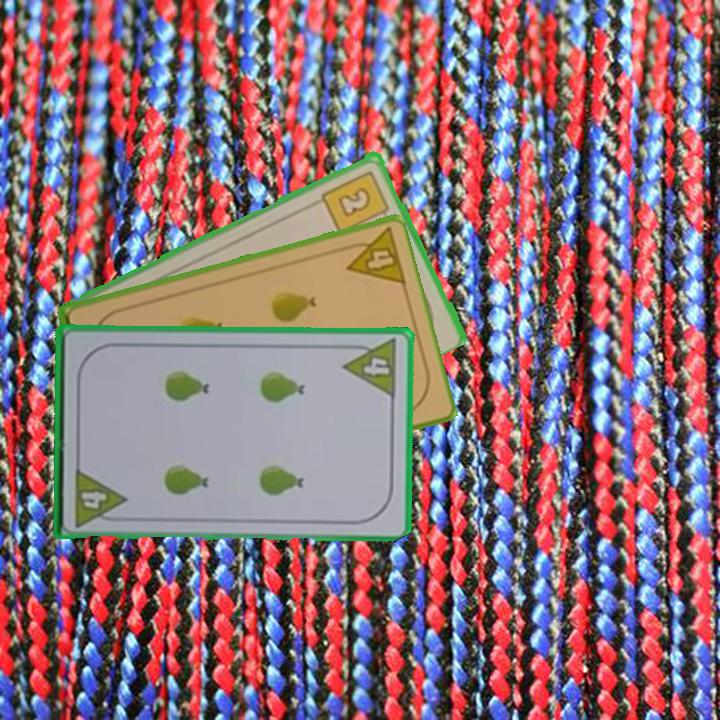2b: (318, 166, 393, 236)
4p: (335, 224, 409, 288), (340, 336, 400, 401), (71, 464, 128, 529)
